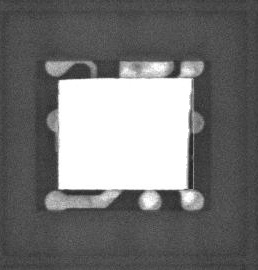DIE_BROKEN: (187, 97, 196, 189)
